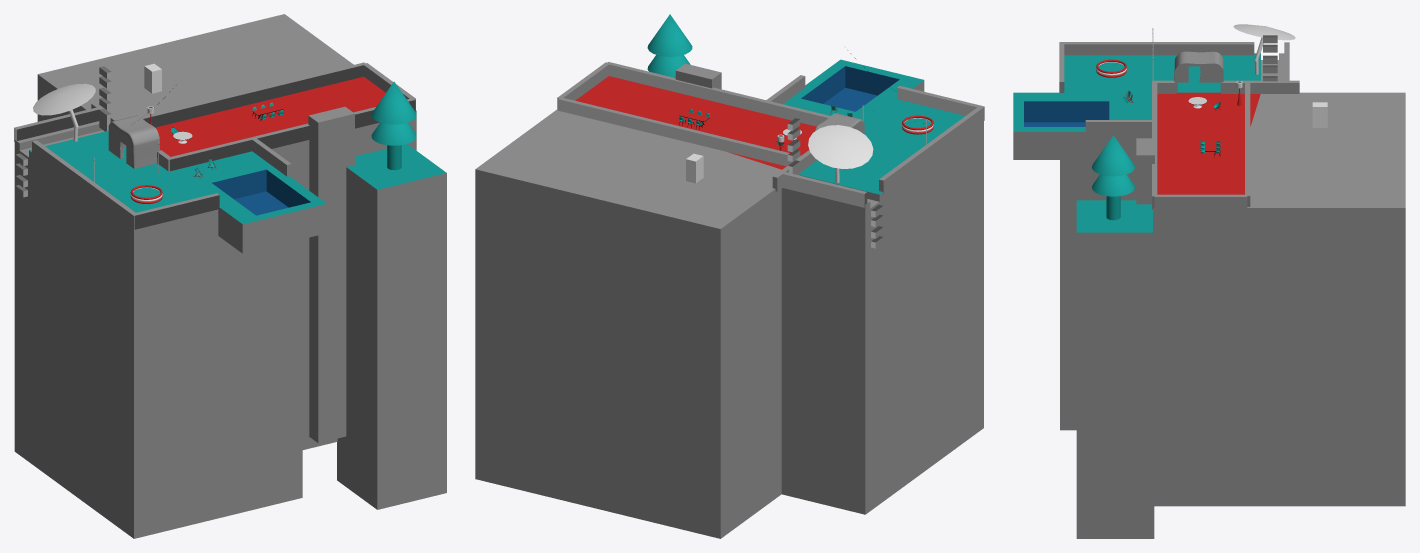
3 renders of one model, left to right at view 1: azimuth 30°, elevation 25°; view 2: azimuth 150°, elevation 25°; view 3: azimuth 270°, elevation 25°, orthographic. The views are drawn at different scales.
Visible parts, largest first — view 1: pCube1, Torus001; view 2: pCube1; view 3: pCube1, Torus001.
Boxes of the visible parts, x1,y1,x2,y2 form: pCube1: [14, 14, 446, 538]; Torus001: [130, 185, 162, 203]; pCube1: [475, 14, 984, 538]; pCube1: [1013, 24, 1405, 538]; Torus001: [1096, 59, 1126, 77].
Bounding box in the file's own units: 3983 × 4952 × 4210.
